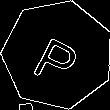P_NE: (29, 24, 86, 86)
